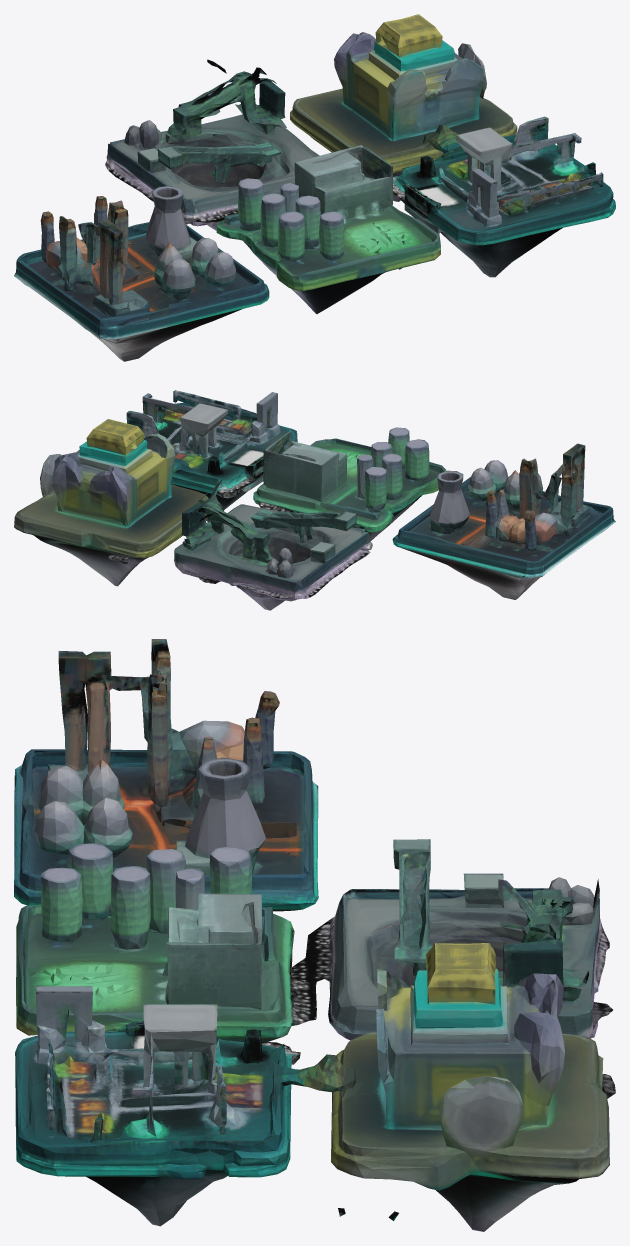
File: parque.glb
3 renders of one model, top to bottom at view 1: azimuth 30°, elevation 25°; view 2: azimuth 150°, elevation 25°; view 3: azimuth 270°, elevation 25°, orthographic. The views are drawn at different scales.
Visible parts, largest first — view 1: world; view 2: world; view 3: world.
Part boxes in pixels (x1,y1,x2,y2): world: (14, 14, 615, 361); world: (14, 390, 615, 610); world: (14, 639, 615, 1231).
Size of the model in its own units: 0.8697 by 0.2798 by 0.5432.
Materials: 1 (1 with a texture image).
